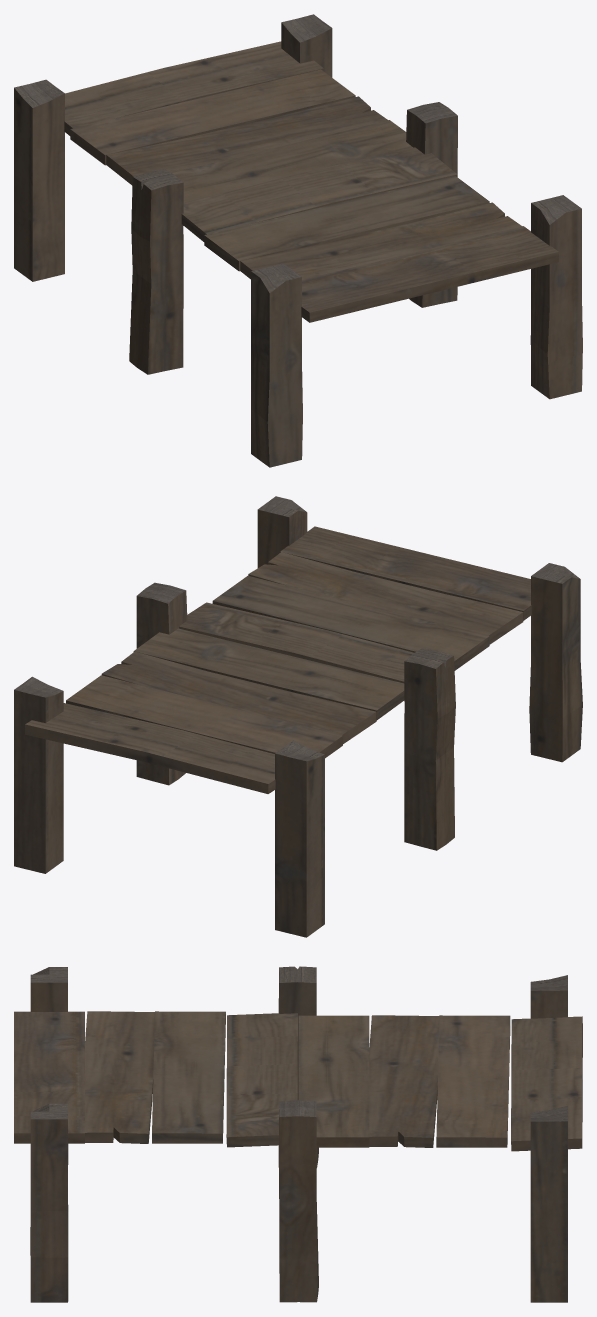
The model's file is Bridge.fbx.
The picture shows the model from 3 angles, top to bottom: view 1: azimuth 30°, elevation 25°; view 2: azimuth 150°, elevation 25°; view 3: azimuth 270°, elevation 25°; orthographic projection. The views are drawn at different scales.
Visible parts, largest first — view 1: Bridge; view 2: Bridge; view 3: Bridge.
Boxes of the visible parts, x1,y1,x2,y2 form: Bridge: (14, 14, 582, 467); Bridge: (14, 496, 582, 937); Bridge: (14, 966, 582, 1302).
Bounding box in the file's own units: 1031 × 584 × 1604.
